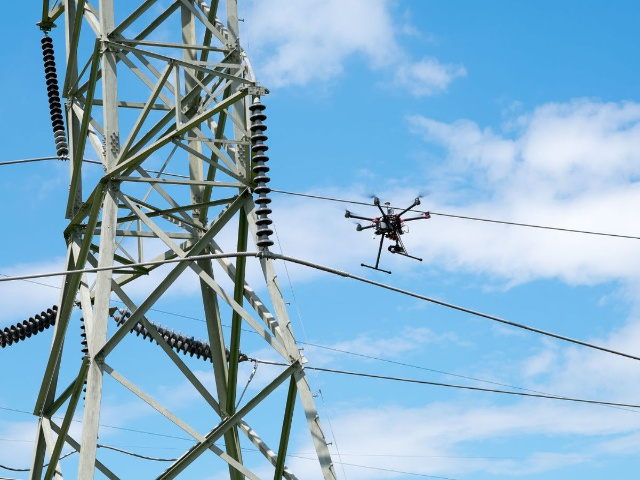drone: (334, 188, 441, 276)
